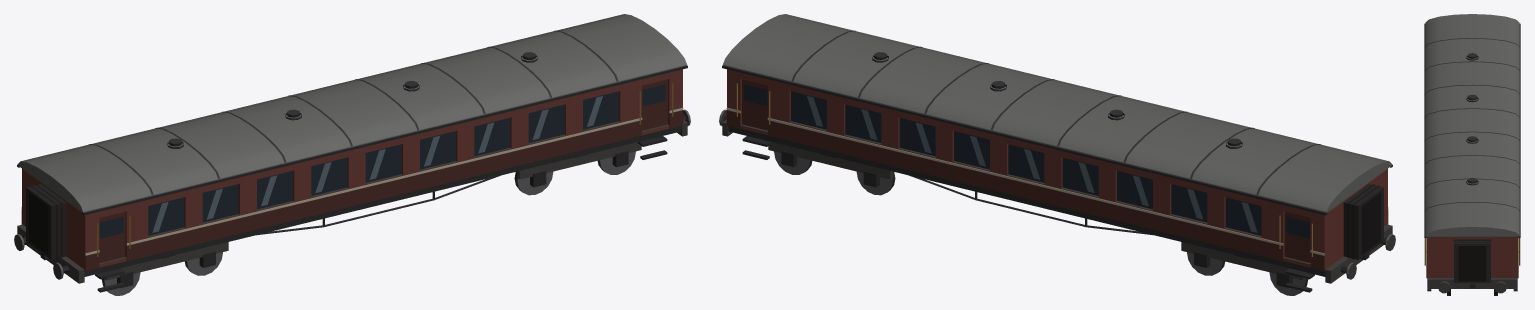
Rendered from coach_clean.glb.
The picture shows the model from 3 angles, left to right: view 1: azimuth 30°, elevation 25°; view 2: azimuth 150°, elevation 25°; view 3: azimuth 270°, elevation 25°; orthographic projection. The views are drawn at different scales.
Parts seen in each view (by area): view 1: coach_clean_LOD0; view 2: coach_clean_LOD0; view 3: coach_clean_LOD0.
Boxes of the visible parts, x1,y1,x2,y2 form: coach_clean_LOD0: [14, 14, 690, 295]; coach_clean_LOD0: [719, 14, 1395, 295]; coach_clean_LOD0: [1424, 14, 1520, 295].
Size of what is drawn, in the model's own units: 16 by 3.02 by 2.94.
Materials: 1 (1 with a texture image).
